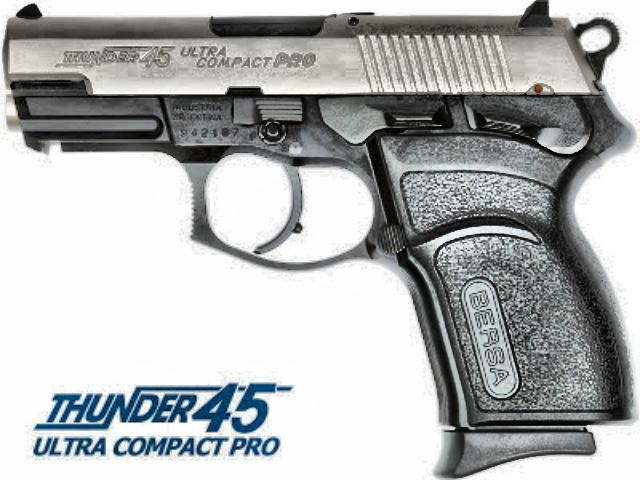pistol: (3, 2, 633, 474)
